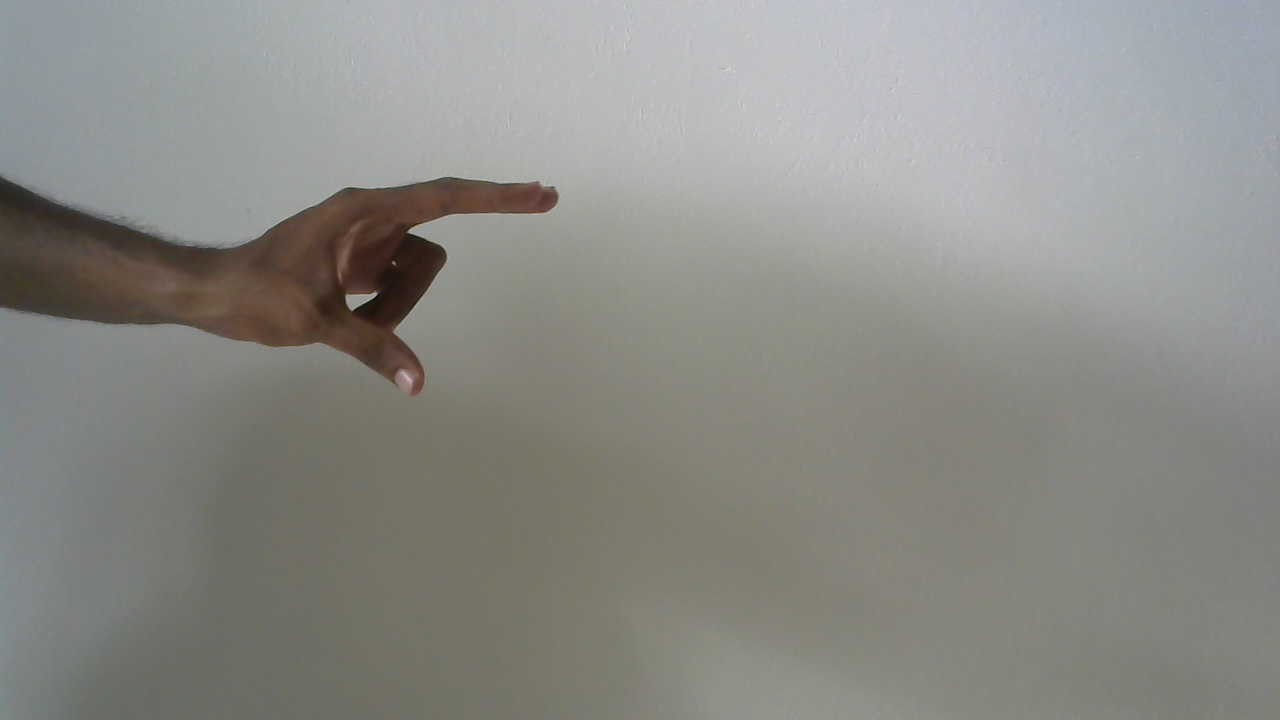no: (223, 160, 582, 416)
